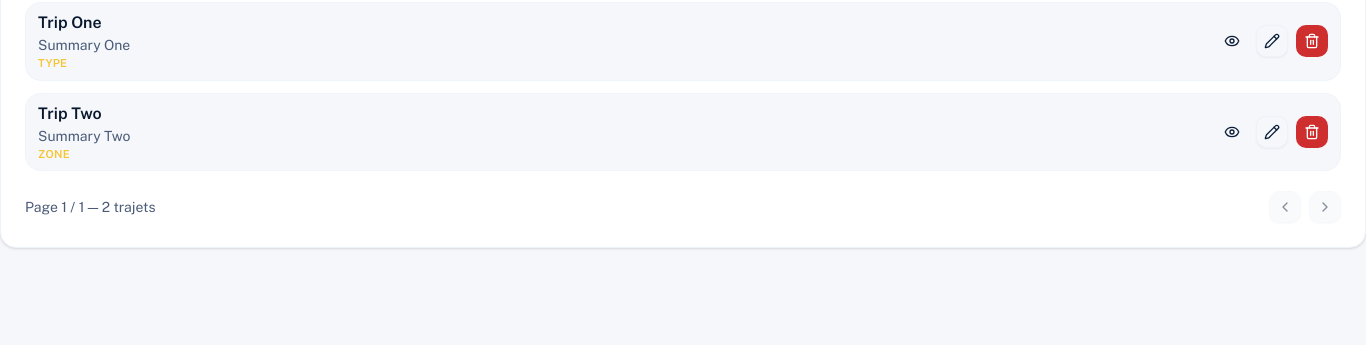
Test: FeaturedTripsAdmin cards › le bouton Voir (œil) ouvre et ferme la fiche du trajet
This screenshot has width=1366, height=345.
Click the button "Trip Two Summary Two ZONE" at (70, 113), box [26,94,1340,170]
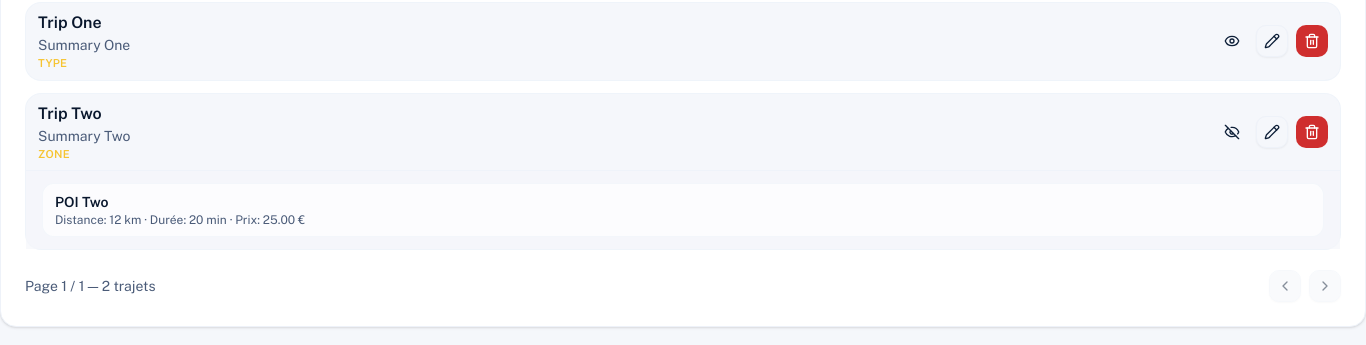
Expected: the text "POI Two" is shown, [55,194,108,210]
Click the button "Trip Two Summary Two ZONE" at (70, 113), box [26,94,1340,170]
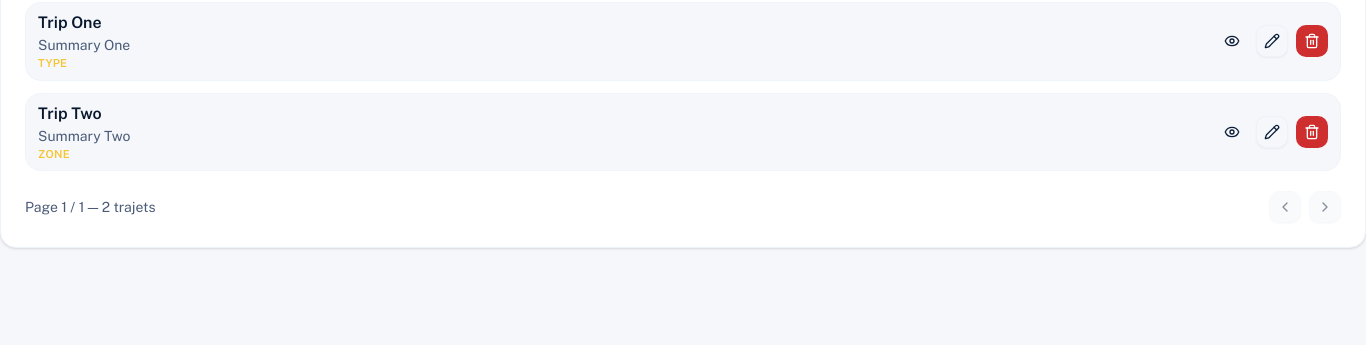
Expected: the text "POI Two" is gone
